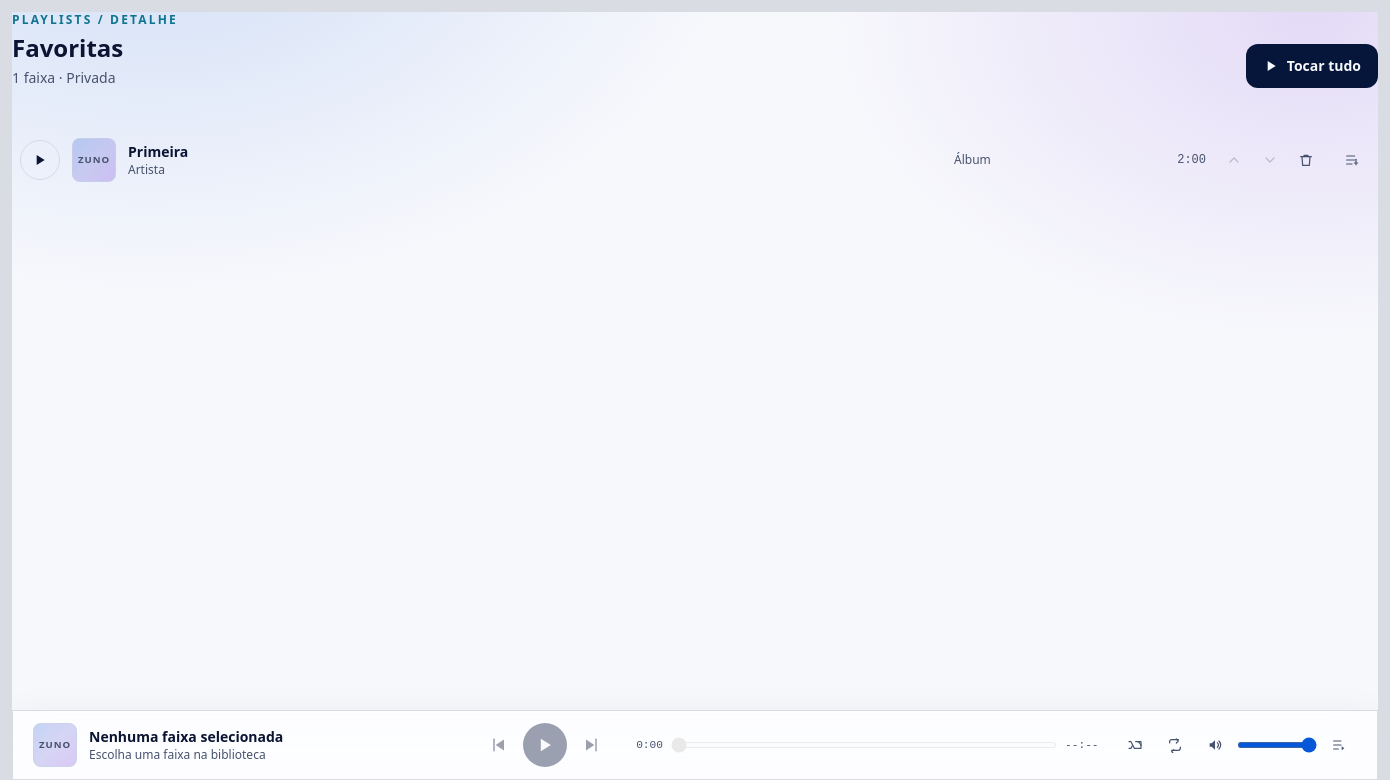
Test case: PlaylistDetailView › remove faixas e mostra o estado vazio
The image size is (1390, 780).
expect the text "Primeira" is shown: met, box [128,142,188,161]
Click the button named "Remover Primeira da playlist": (1306, 160) [1290,144,1322,176]
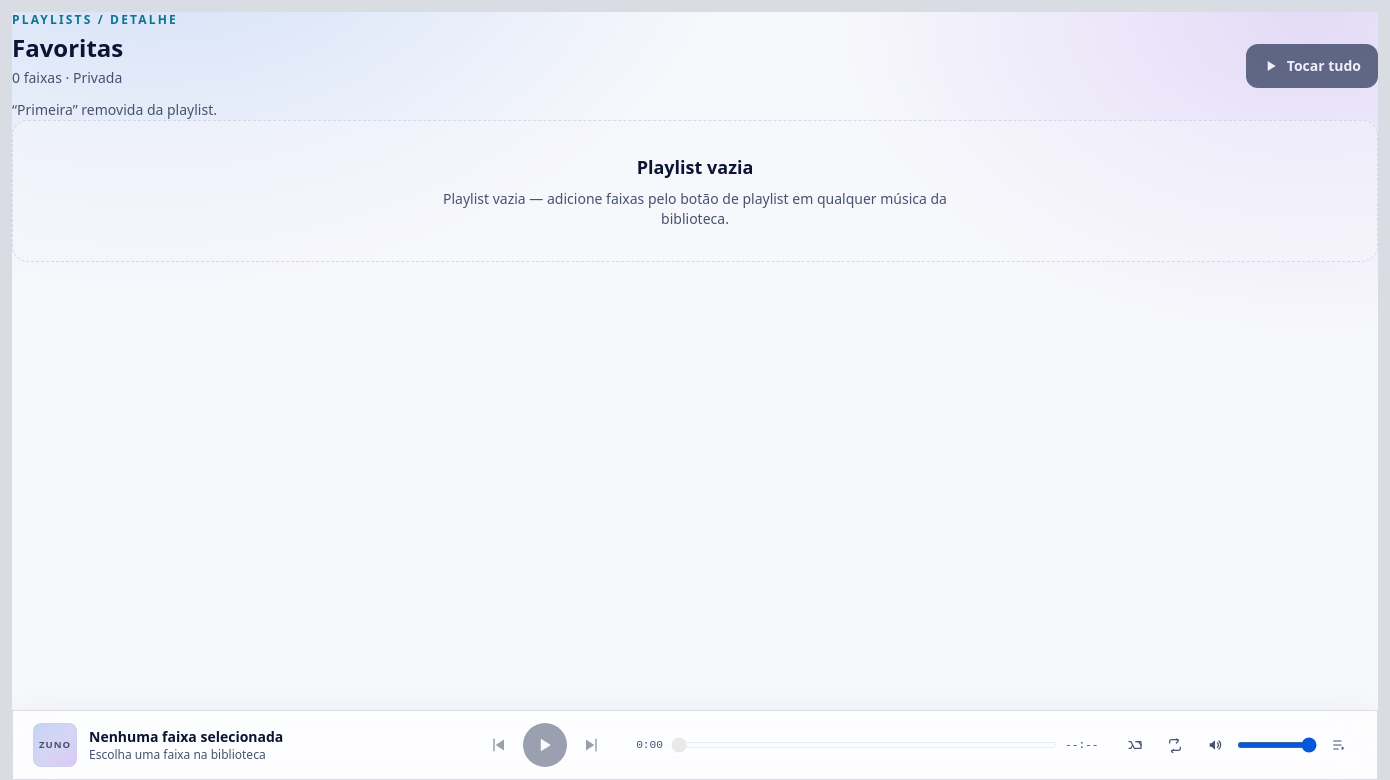
expect the text "Playlist vazia" is shown: met, box [637,155,753,179]
